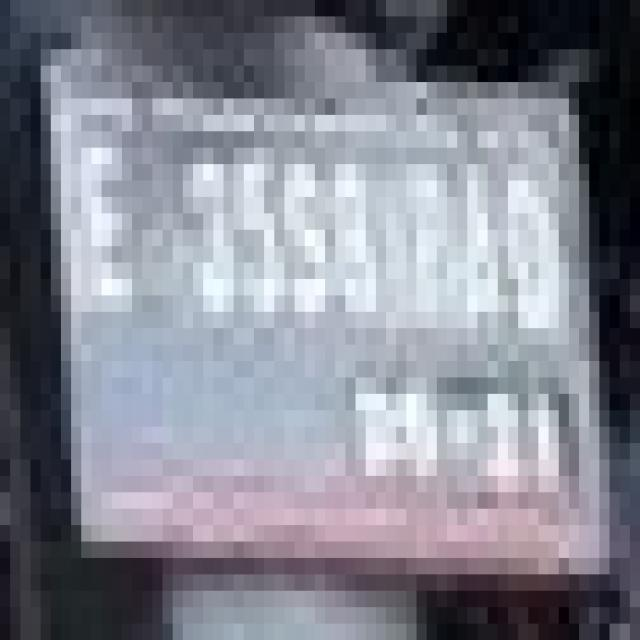plate: (31, 33, 600, 558)
